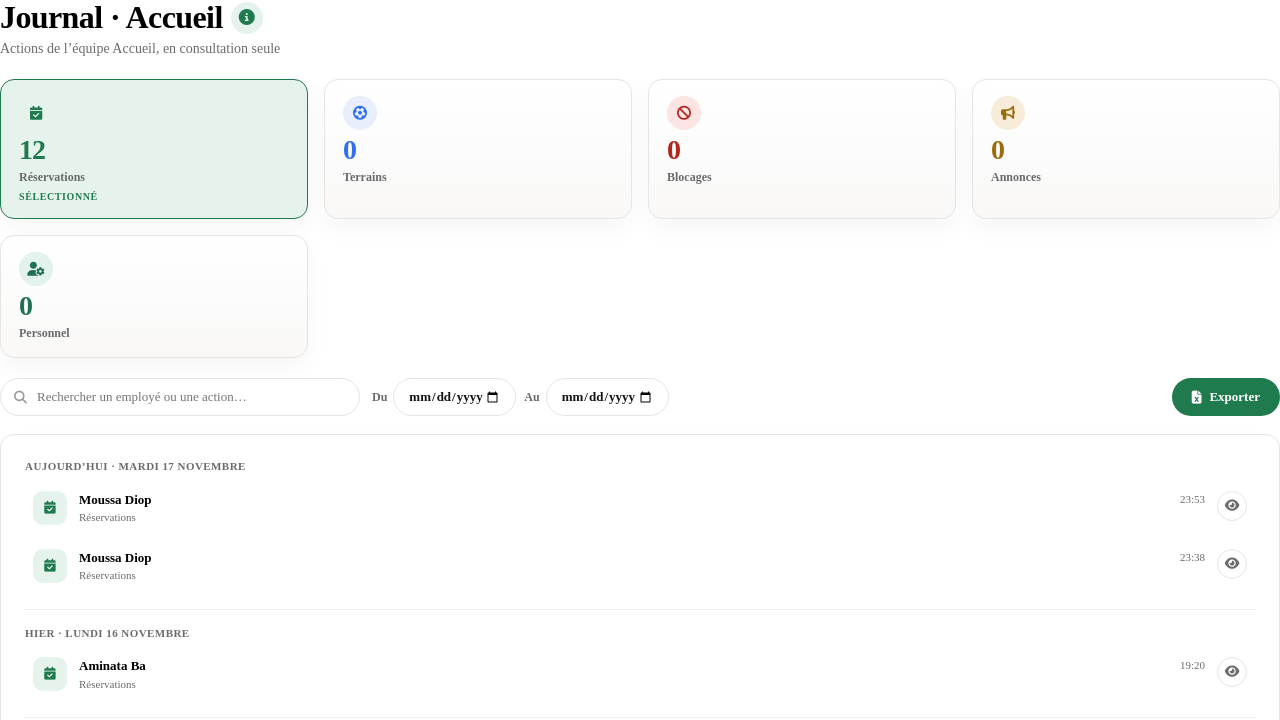
Test: Journal d’audit page › opens the full detail (role, description, date) on the view icon, and closes it
The width and height of the screenshot is (1280, 720).
What coordinates should you click on to do the following:
click the button named "Voir le détail" next to "23:53"
I would click on:
 (1232, 506)
Its box is [1217, 491, 1247, 521].
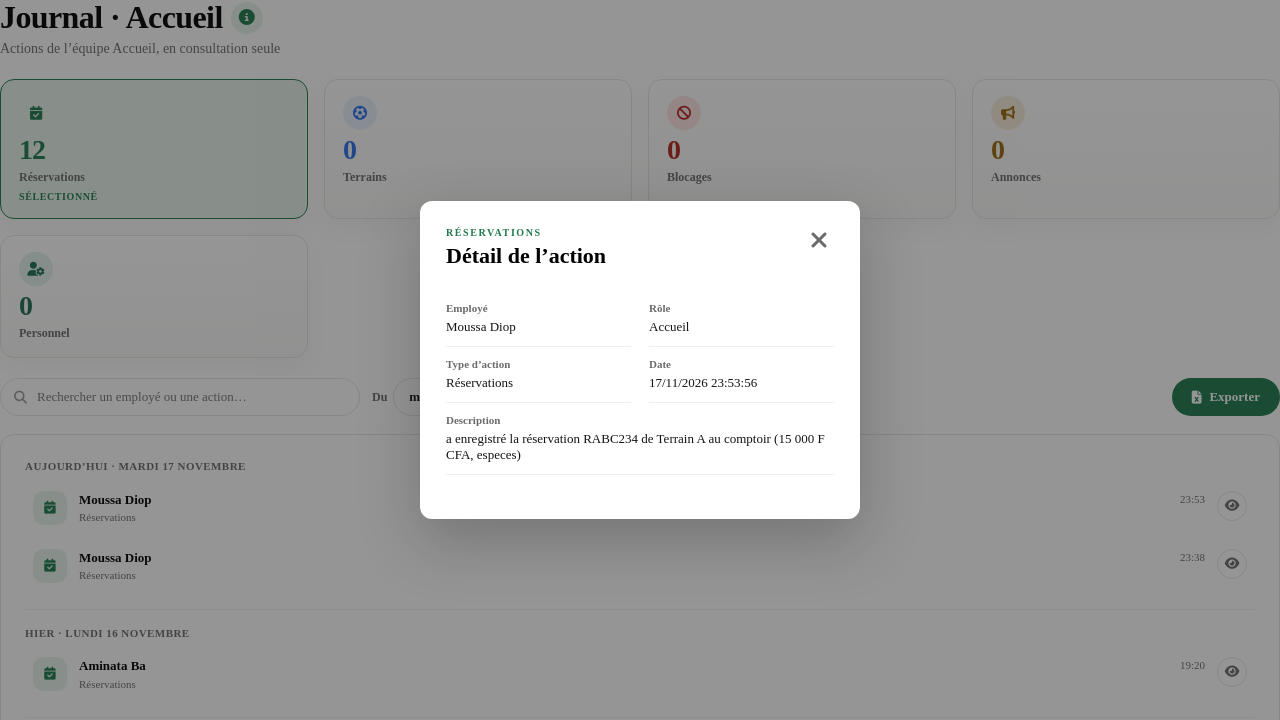
Expected: the text "a enregistré la réservation RABC234 de Terrain A au comptoir (15 000 F CFA, especes)" is shown, [446, 431, 825, 462]
Expected: the text "Accueil" is shown, [649, 319, 689, 334]
What coordinates should you click on to do the following:
click the button named "Fermer"
I would click on:
 (819, 241)
Its box is [804, 227, 834, 254].
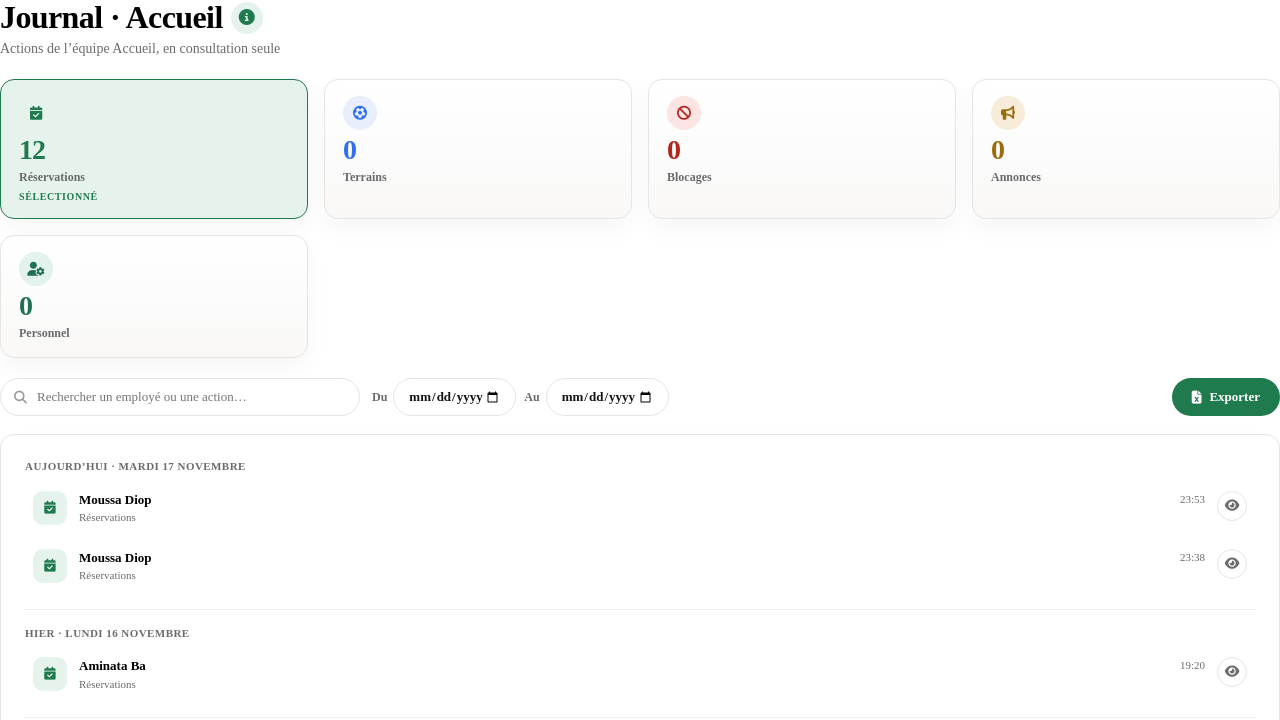
Expected: the dialog is gone
